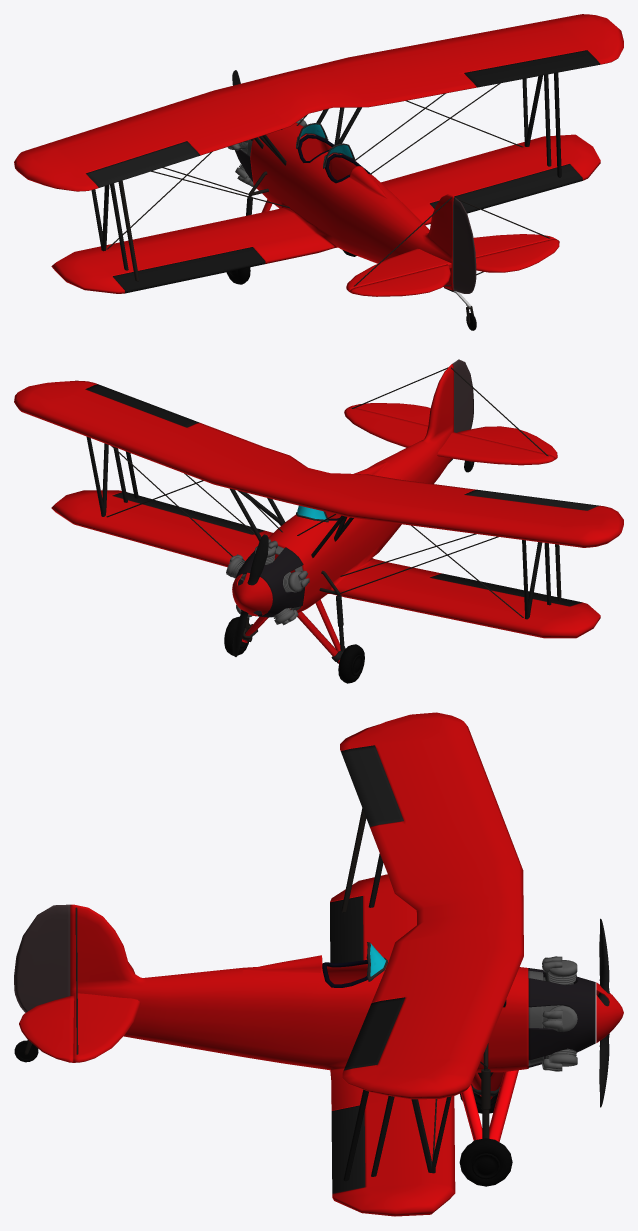
The picture shows the model from 3 angles, top to bottom: view 1: azimuth 30°, elevation 25°; view 2: azimuth 150°, elevation 25°; view 3: azimuth 270°, elevation 25°; orthographic projection. The views are drawn at different scales.
Parts seen in each view (by area): view 1: Fuselage, TopWing, Elevator, LBotAileron, WingStruts, TailHoriz, RBotAileron, R_TopAileron, L_TopAileron, Rudder, SpanWires, CockpitTrim (+2 smaller); view 2: TopWing, Fuselage, TailHoriz, WingStruts, Elevator, SpanWires, EngCowling1, Engine, Rudder, PropCone, R_TopAileron, RBotAileron (+5 smaller); view 3: TopWing, Fuselage, Rudder, EngCowling1, TailHoriz, L_TopAileron, Elevator, RBotAileron, Engine, R_TopAileron, LBotAileron, RWheel (+4 smaller).
Part boxes in pixels (x1,y1,x2,y2): Fuselage: (51,123,600,293); TopWing: (14,14,623,191); Elevator: (349,239,559,296); LBotAileron: (113,247,265,293); WingStruts: (91,74,551,270); TailHoriz: (346,234,555,291); RBotAileron: (430,164,582,213); R_TopAileron: (464,50,600,87); L_TopAileron: (86,141,200,187); Rudder: (453,197,476,293); SpanWires: (106,83,550,286); CockpitTrim: (297,134,371,183); TopWing: (14,380,623,547); Fuselage: (51,364,600,638); TailHoriz: (344,407,555,465); WingStruts: (86,436,551,619); Elevator: (350,403,557,458); SpanWires: (106,367,548,617); EngCowling1: (235,547,304,617); Engine: (226,539,309,625); Rudder: (452,359,473,432); PropCone: (232,572,272,616); R_TopAileron: (85,384,199,427); RBotAileron: (112,492,264,534); TopWing: (340,712,523,1099); Fuselage: (70,874,528,1216); Rudder: (14,904,70,1012); EngCowling1: (528,968,595,1067); TailHoriz: (73,962,140,1062); L_TopAileron: (341,745,403,826); Elevator: (19,995,74,1062); RBotAileron: (331,1105,365,1193); Engine: (542,956,577,1071); R_TopAileron: (343,997,405,1070); LBotAileron: (330,896,363,963); RWheel: (459,1138,512,1186).
Bounding box in the file's own units: 8.14 × 2.54 × 5.53.
